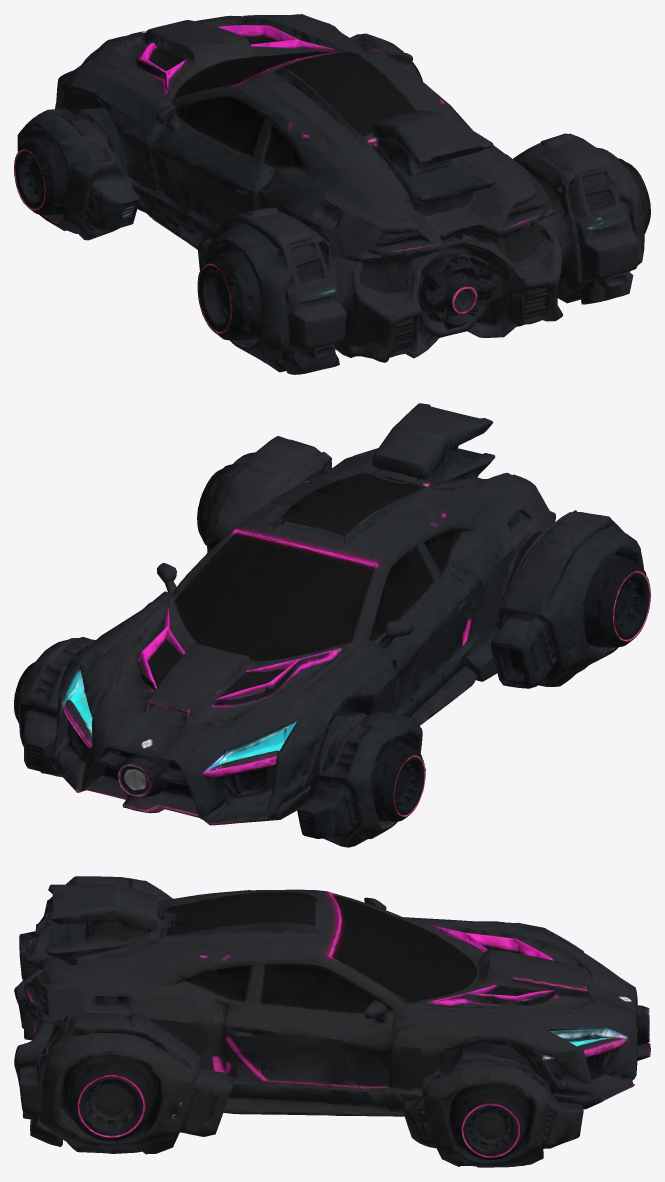
The model's file is car.glb.
3 views of the same model, one above another, from view 1: azimuth 30°, elevation 25°; view 2: azimuth 150°, elevation 25°; view 3: azimuth 270°, elevation 25° (orthographic). The views are drawn at different scales.
Visible parts, largest first — view 1: hi_body, lo_body, hi_pod_RL, hi_pod_FL, hi_pod_RR, lo_pod_RL, lo_pod_FL, lo_pod_RR, hi_pod_FR; view 2: hi_body, lo_body, hi_pod_RL, hi_pod_FL, lo_pod_RL, lo_pod_FL, hi_pod_RR, hi_pod_FR, lo_pod_FR, lo_pod_RR; view 3: hi_body, lo_body, hi_pod_RR, hi_pod_FR, lo_pod_RR, lo_pod_FR, hi_pod_RL, lo_pod_RL.
Part boxes in pixels (x1,y1,x2,y2): hi_body: [55, 14, 581, 362]; lo_body: [55, 14, 582, 362]; hi_pod_RL: [197, 207, 345, 374]; hi_pod_FL: [14, 73, 150, 240]; hi_pod_RR: [513, 133, 650, 304]; lo_pod_RL: [197, 208, 346, 374]; lo_pod_FL: [14, 79, 150, 239]; lo_pod_RR: [514, 134, 650, 303]; hi_pod_FR: [326, 23, 422, 81]; hi_body: [52, 403, 555, 825]; lo_body: [52, 405, 555, 824]; hi_pod_RL: [491, 510, 650, 688]; hi_pod_FL: [297, 663, 425, 847]; lo_pod_RL: [490, 510, 650, 688]; lo_pod_FL: [295, 662, 425, 847]; hi_pod_RR: [197, 436, 326, 552]; hi_pod_FR: [14, 634, 102, 777]; lo_pod_FR: [14, 637, 95, 775]; lo_pod_RR: [197, 442, 321, 552]; hi_body: [14, 884, 650, 1116]; lo_body: [14, 883, 650, 1116]; hi_pod_RR: [19, 1013, 234, 1153]; hi_pod_FR: [392, 1032, 583, 1167]; lo_pod_RR: [19, 1013, 234, 1154]; lo_pod_FR: [392, 1033, 583, 1167]; hi_pod_RL: [19, 876, 172, 980]; lo_pod_RL: [19, 876, 172, 979].
Size of the model in its own units: 3.97 by 2 by 5.6.
Materials: 1 (1 with a texture image).
